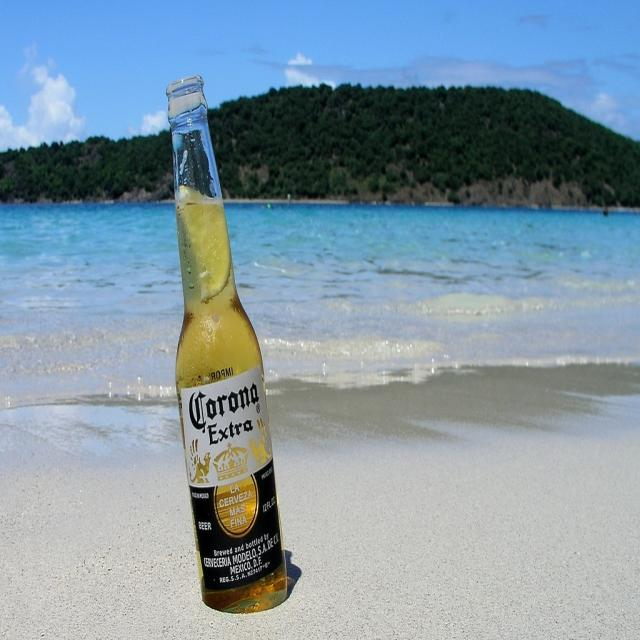corona: (182, 366, 284, 591)
